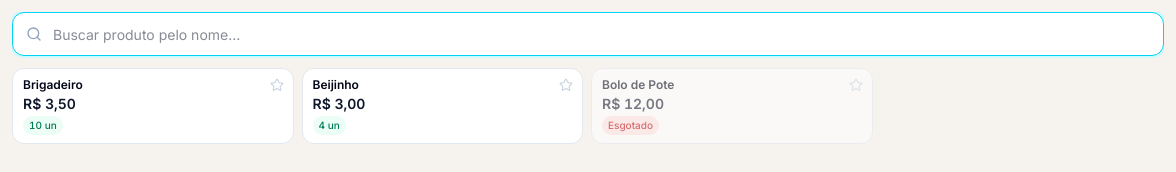
Test: PdvProductSearch › digitar filtra por nome ao vivo
Type "brig" into the field with placeholder "Buscar produto pelo nome…" at (588, 34), box [12, 12, 1164, 56]
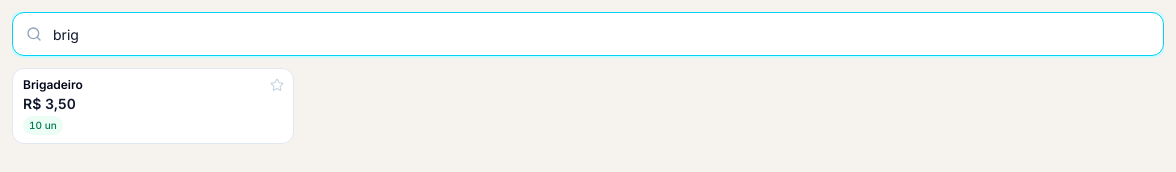
Expected: the text "Brigadeiro" is shown, [23, 77, 83, 92]
Expected: the button "Beijinho" is gone
Expected: the button "Bolo de Pote" is gone
